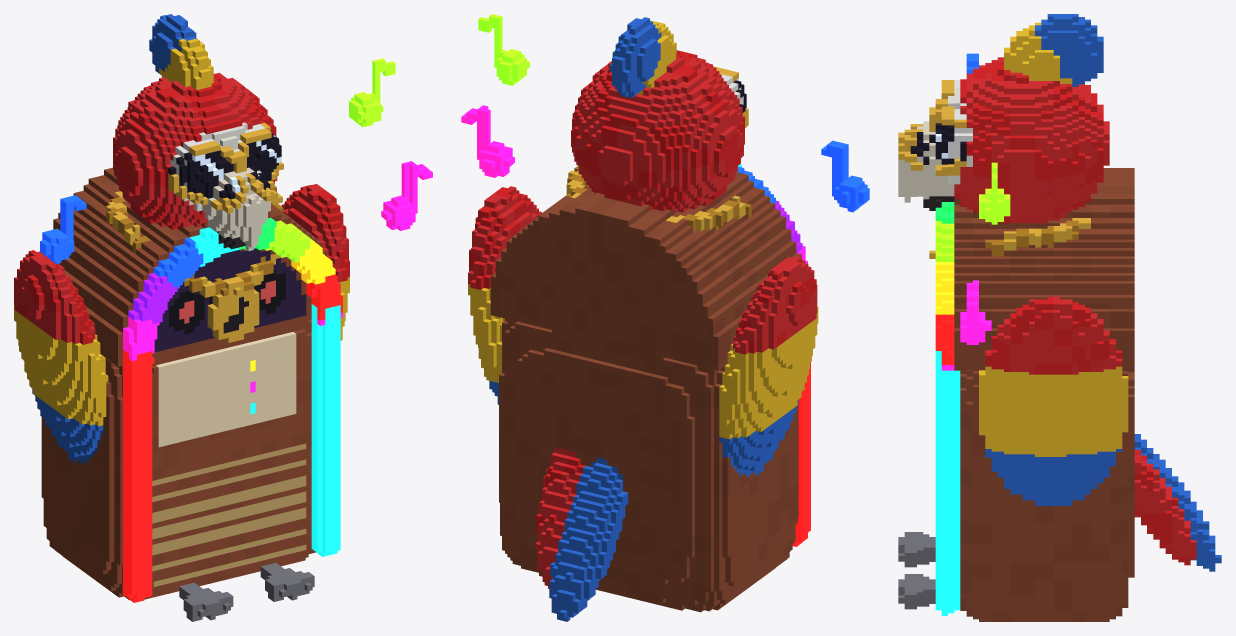
File: jukeboxino_pappagallo.fbx
3 views of the same model, side by side, from view 1: azimuth 30°, elevation 25°; view 2: azimuth 150°, elevation 25°; view 3: azimuth 270°, elevation 25° (orthographic). The views are drawn at different scales.
Visible parts, largest first — view 1: SM_Brainrot_jukeboxino_pappagallo; view 2: SM_Brainrot_jukeboxino_pappagallo; view 3: SM_Brainrot_jukeboxino_pappagallo.
Boxes of the visible parts, x1,y1,x2,y2 form: SM_Brainrot_jukeboxino_pappagallo: (14, 14, 432, 621); SM_Brainrot_jukeboxino_pappagallo: (461, 14, 869, 621); SM_Brainrot_jukeboxino_pappagallo: (898, 14, 1221, 621).
Size of the model in its own units: 456 by 600 by 312.
1 material, 1 textured.
